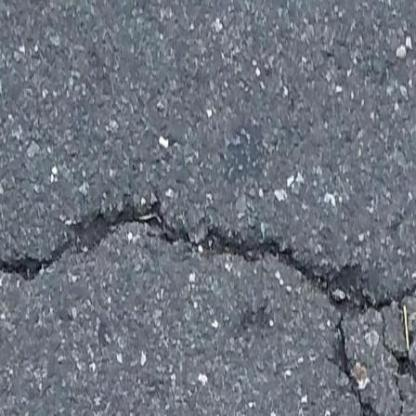Cracks: (0, 168, 370, 326), (322, 323, 416, 416)
